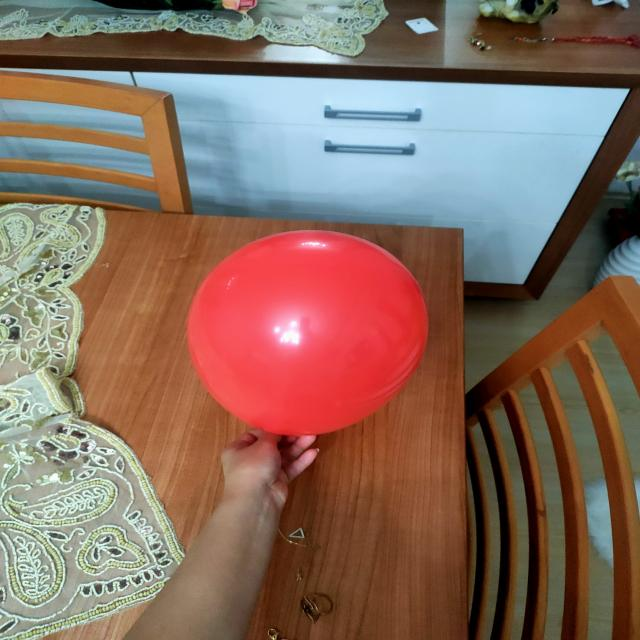red: (190, 232, 432, 437)
